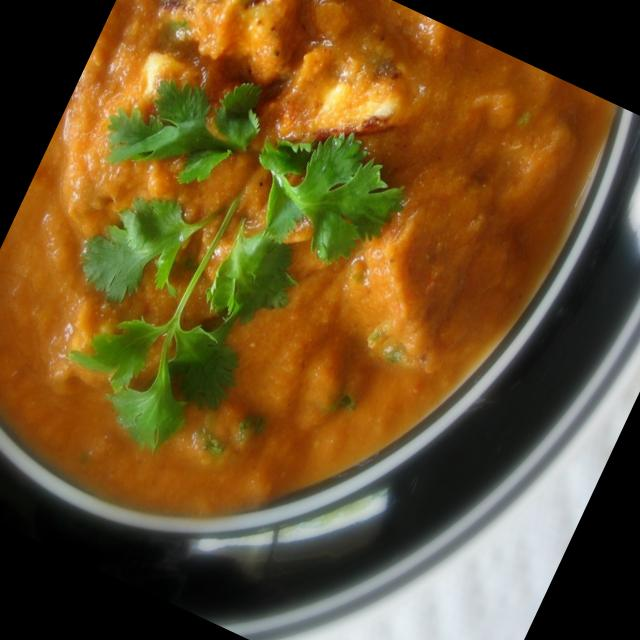ShahiPaneer: (0, 0, 617, 632)
